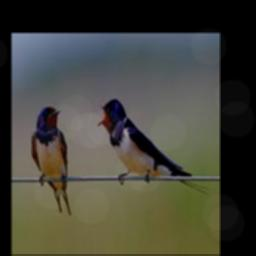Swallow: (95, 98, 210, 194), (32, 104, 70, 215)
